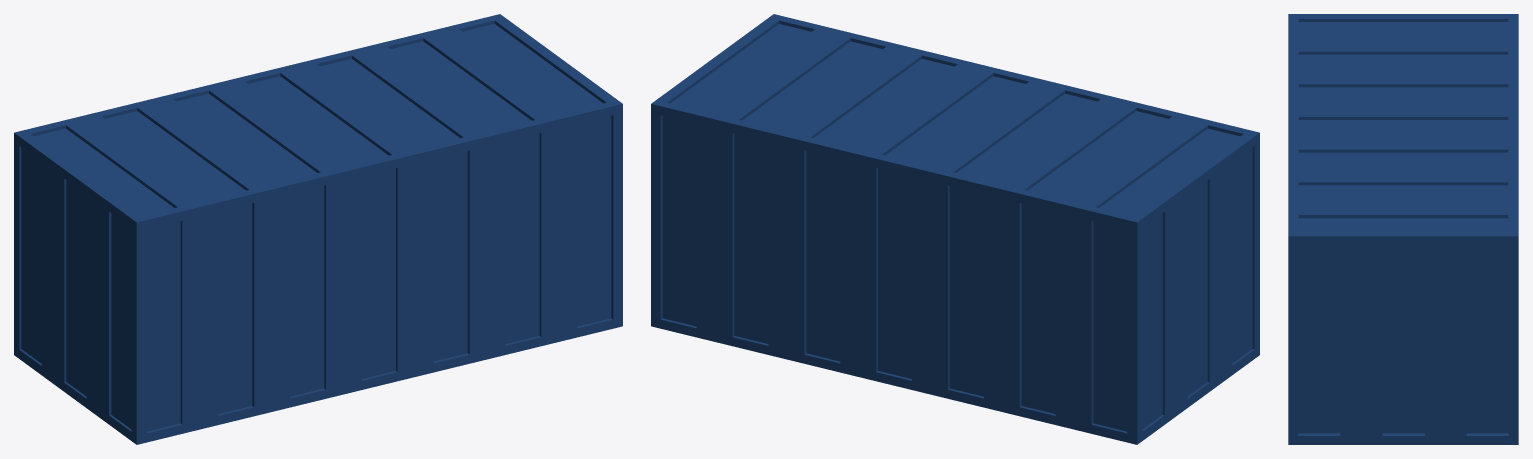
The picture shows the model from 3 angles, left to right: view 1: azimuth 30°, elevation 25°; view 2: azimuth 150°, elevation 25°; view 3: azimuth 270°, elevation 25°; orthographic projection. The views are drawn at different scales.
Parts seen in each view (by area): view 1: D-2; view 2: D-2; view 3: D-2.
Part boxes in pixels (x1,y1,x2,y2): D-2: (14, 14, 622, 444); D-2: (651, 14, 1259, 444); D-2: (1288, 14, 1518, 444).
Bounding box in the file's own units: 2071 × 906 × 906.
